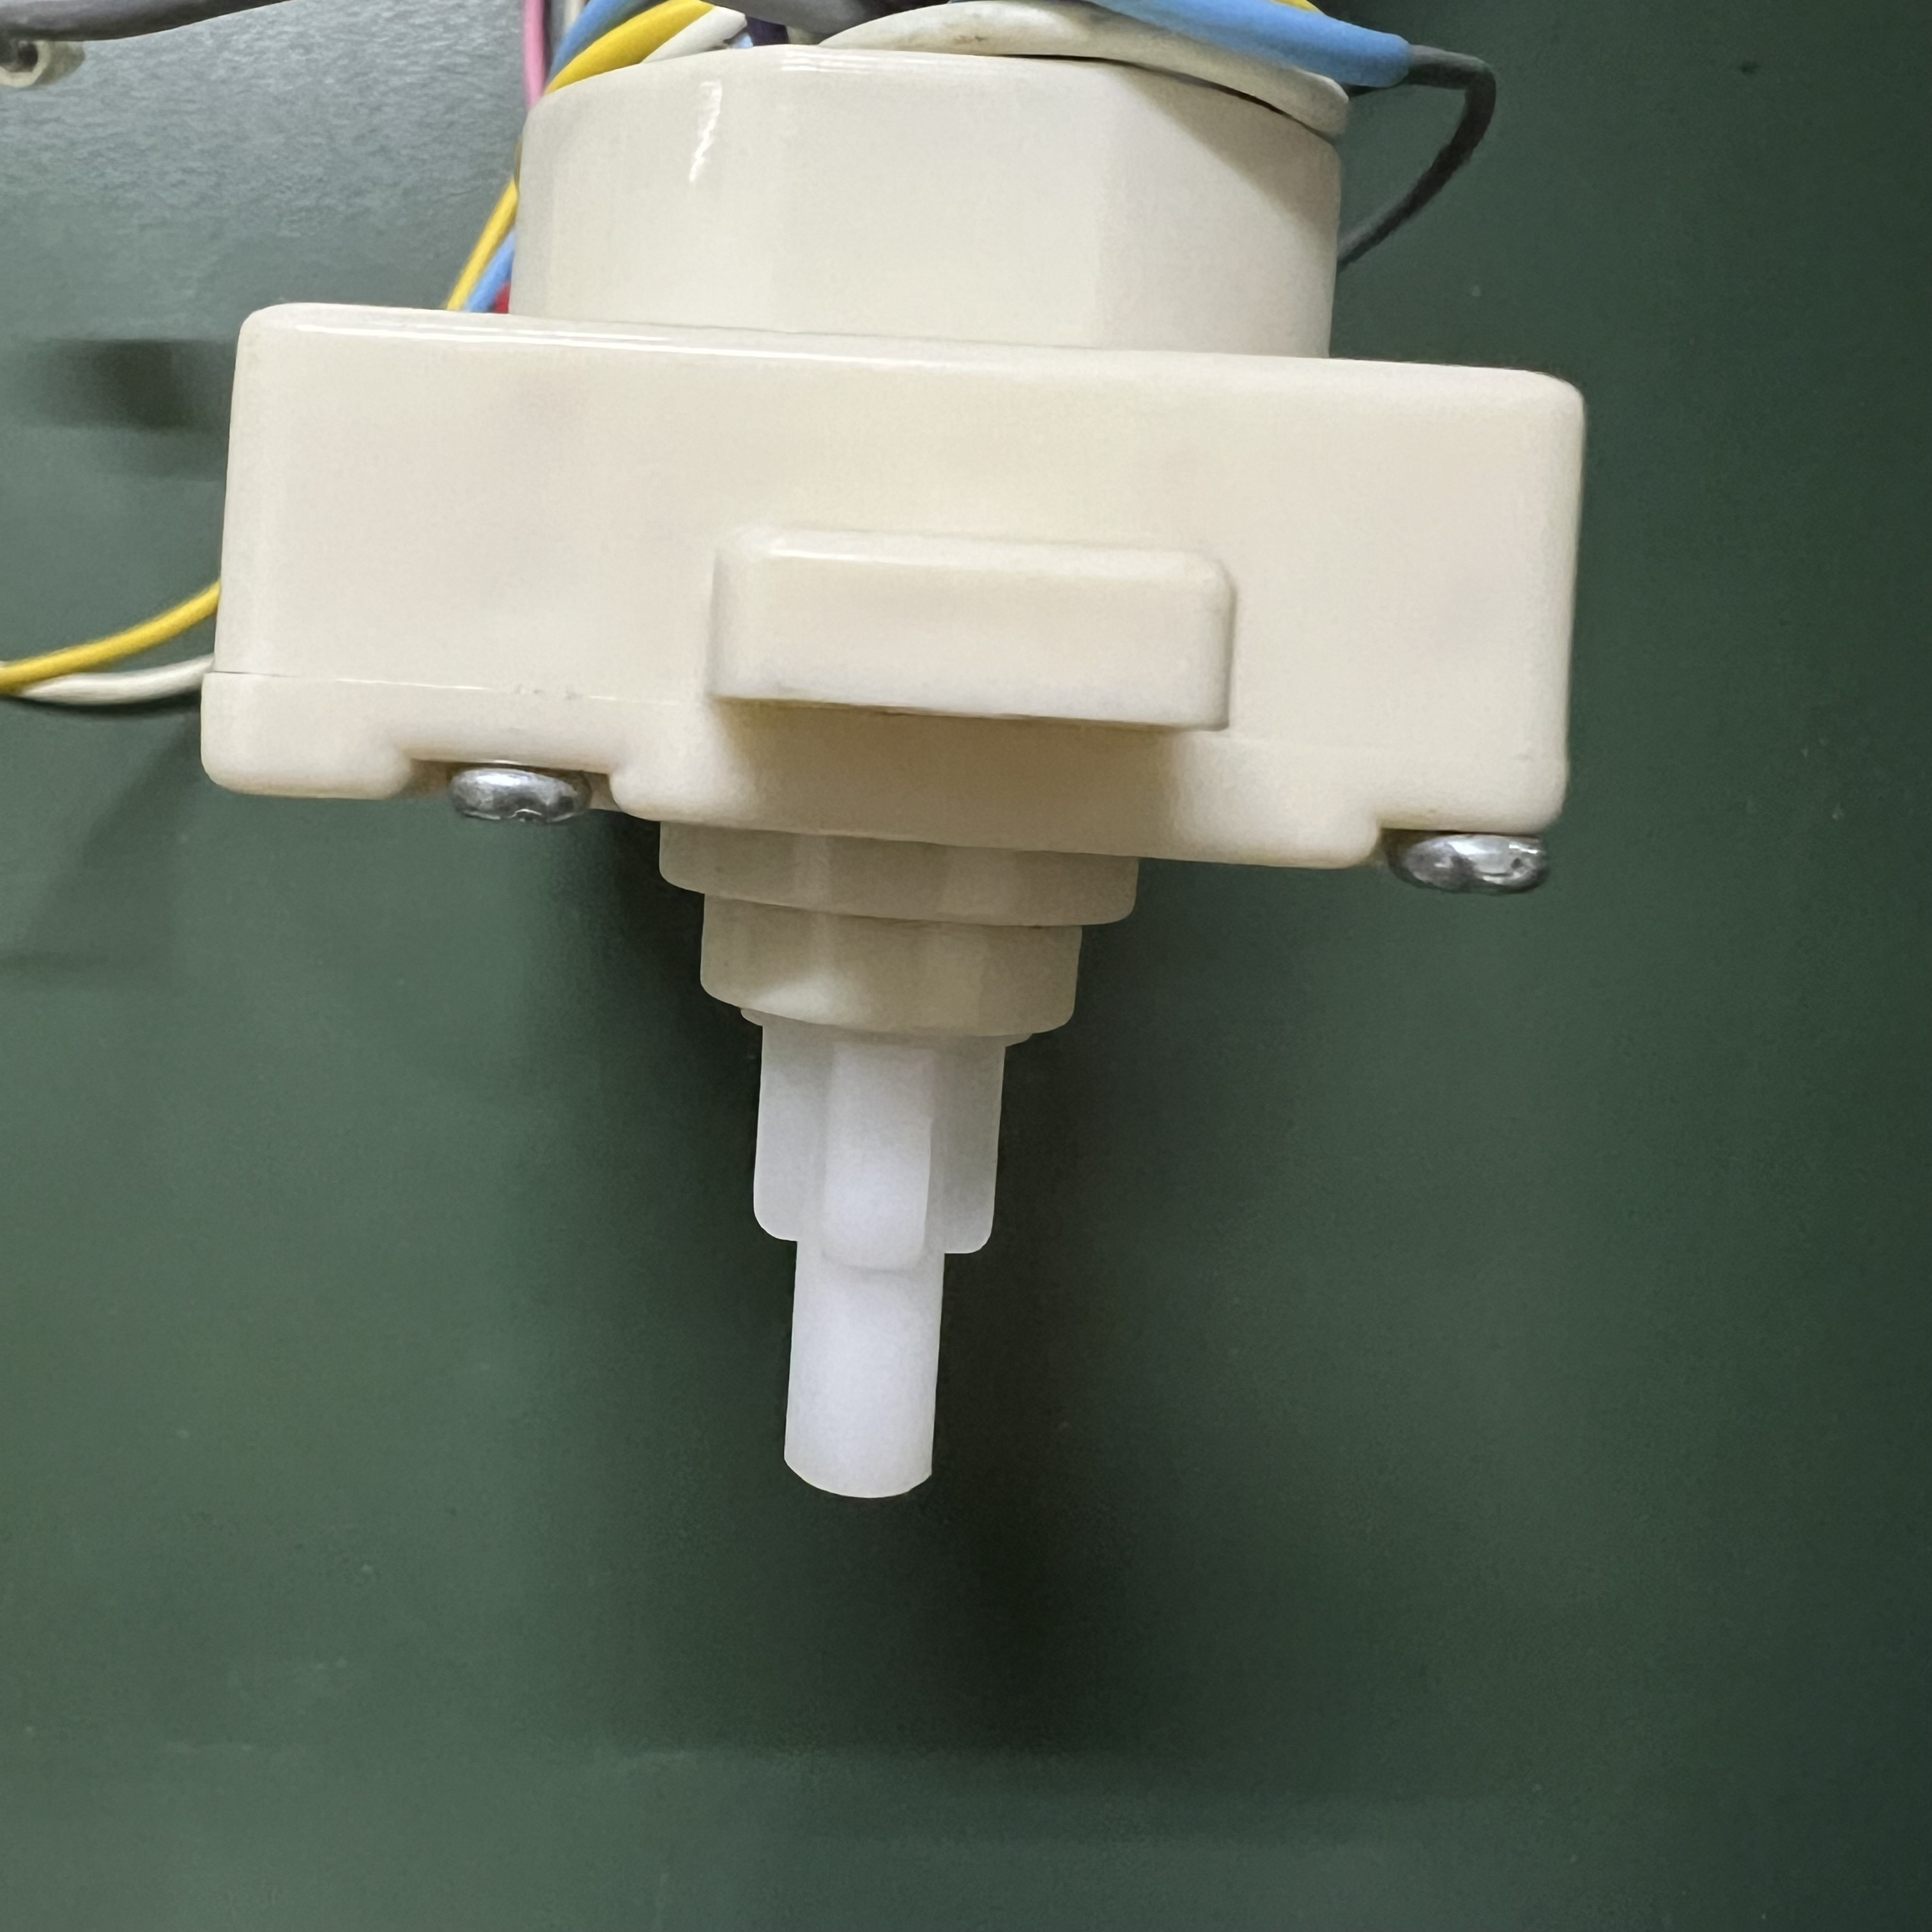rectangle_timer: (205, 67, 1658, 1553)
